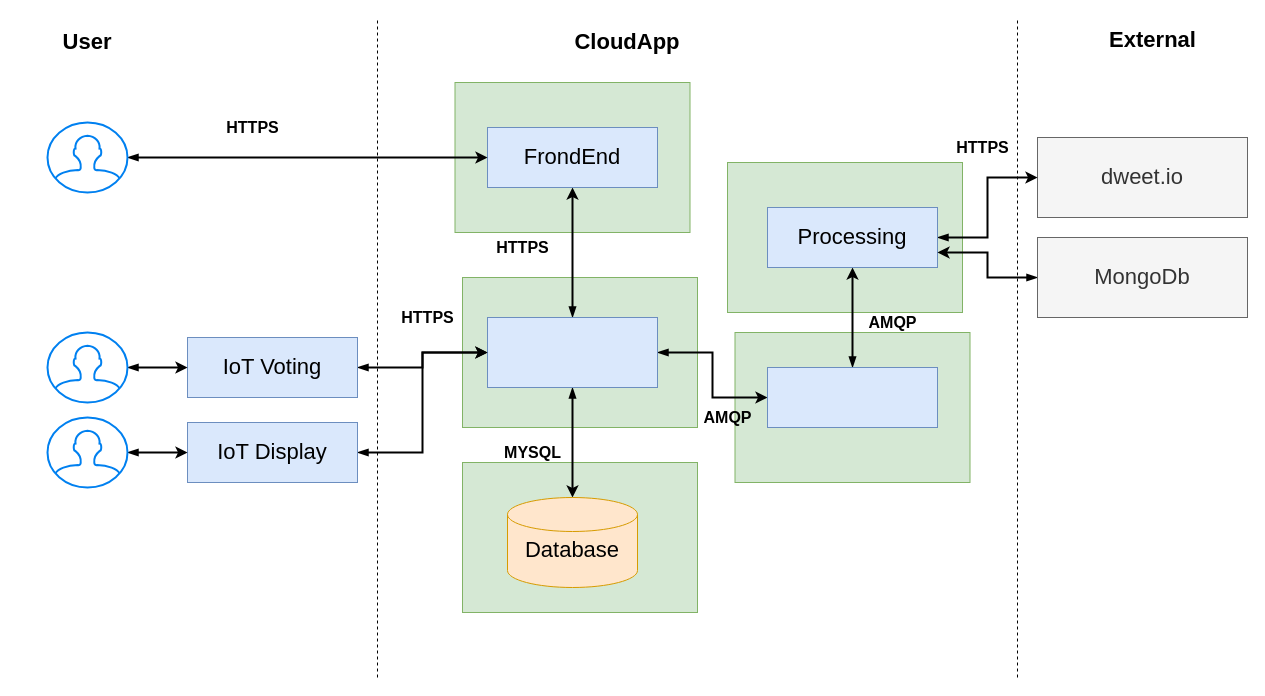
Some shapes in this 1265 by 696 pixel diagram are drawn without their labels. Each missing label, with the centre of its shape:
Messaging: the point at 852,397
RestAPI: the point at 572,352
